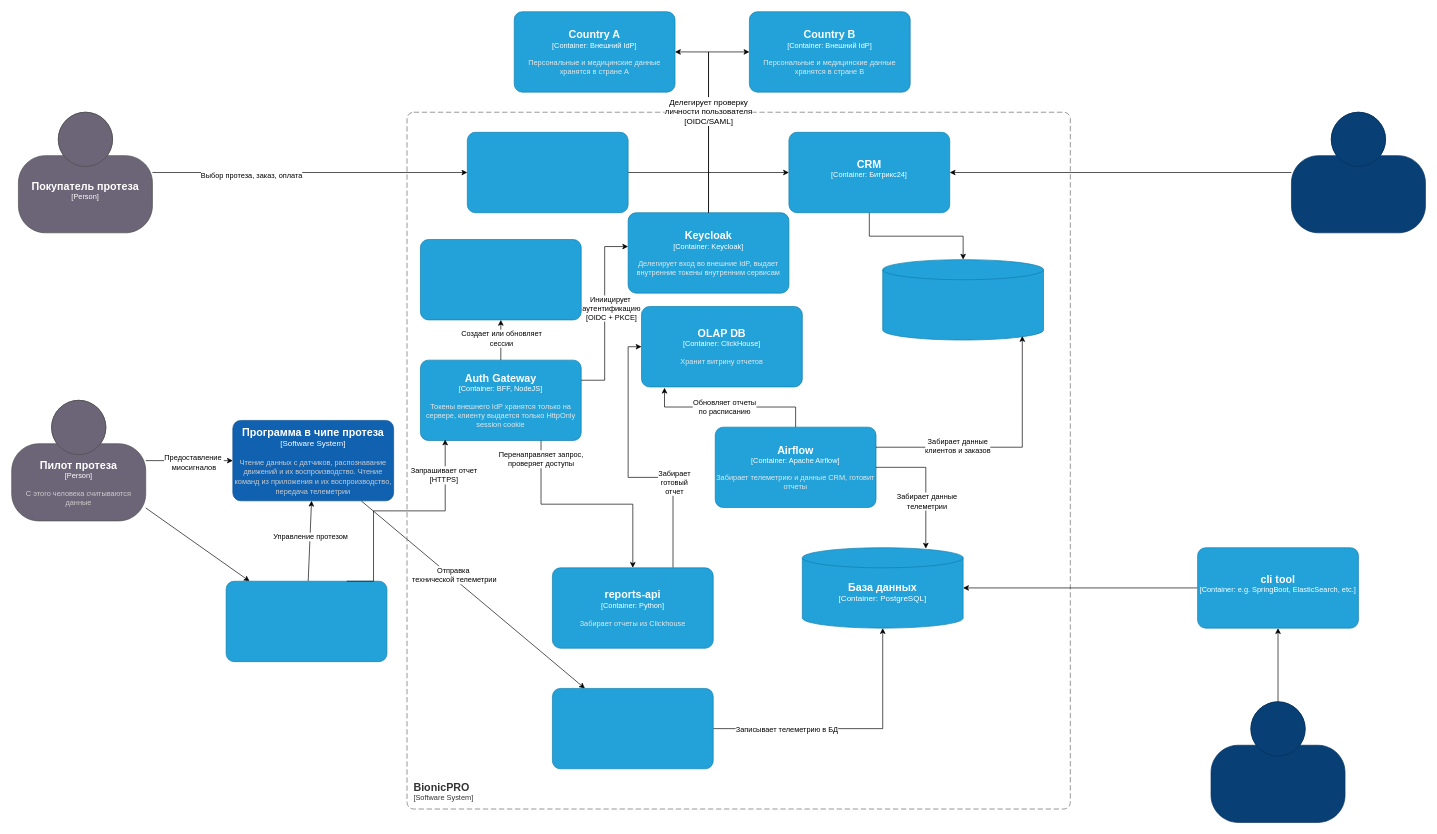
The diagram is 1437 pixels wide and 834 high, and some of its shapes have lost their labels. The shapes that lost their labels are listed below. From the top down, each one's centre as x and y in pixels, then its label:
At point 547,172: "Интернет-магазин [Container: Битрикс24]".
At point 1358,172: "Оператор производства [Person]".
At point 500,279: "Session Storage [Container: Redis] Хранит сессии и служебные данные".
At point 963,299: "CRM DB [Container: e.g. Oracle Database 12]".
At point 306,621: "Приложение для донастройки протеза [Container: iOD, Android]".
At point 632,728: "API [Container: e.g. SpringBoot, ElasticSearch, etc.]".
At point 1277,761: "ML-инженер [Person]".
